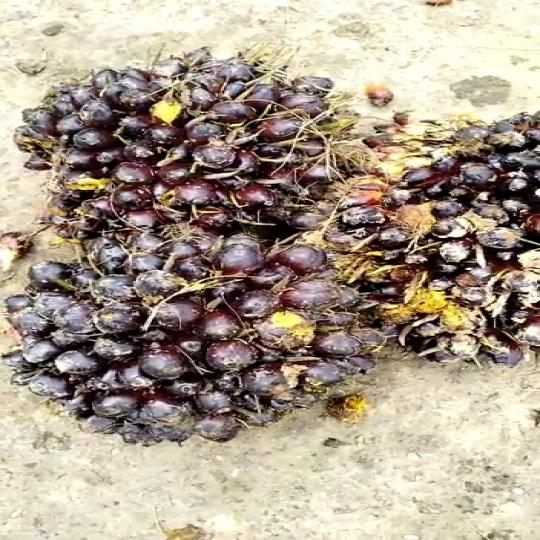mentah: (0, 230, 396, 437), (20, 51, 351, 252), (326, 91, 540, 367)
